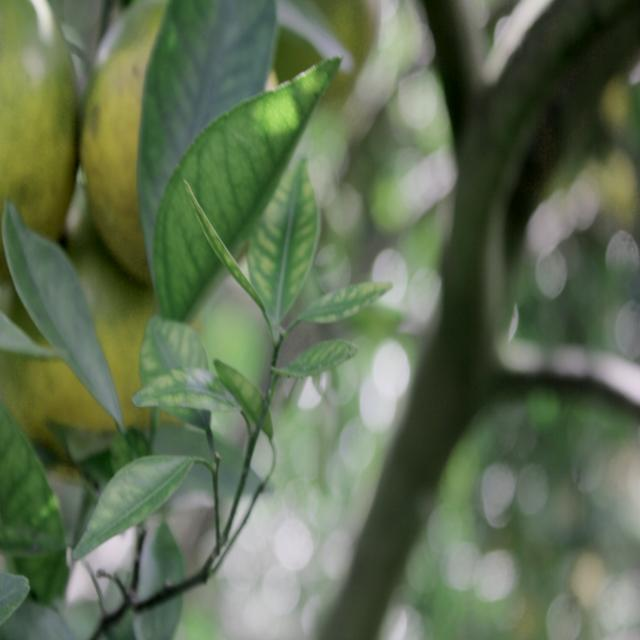greening: (70, 449, 199, 551), (251, 153, 316, 314), (144, 363, 240, 426), (303, 282, 388, 330)
